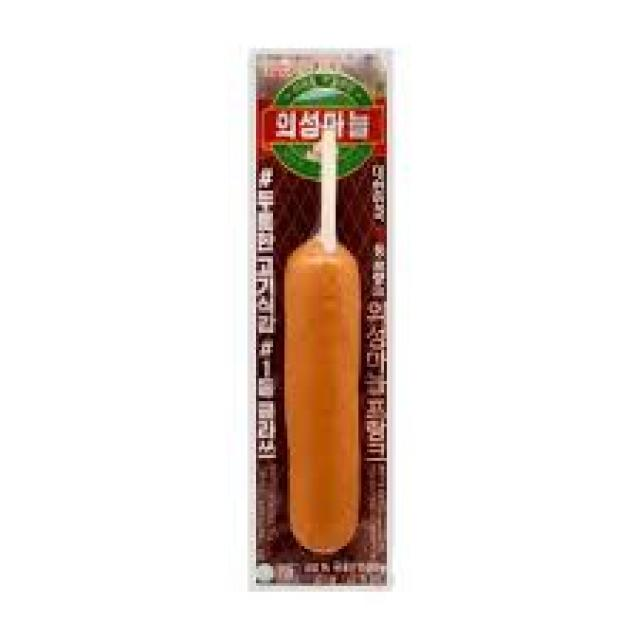Sausage/Hot Dog Link: (270, 219, 376, 558)
